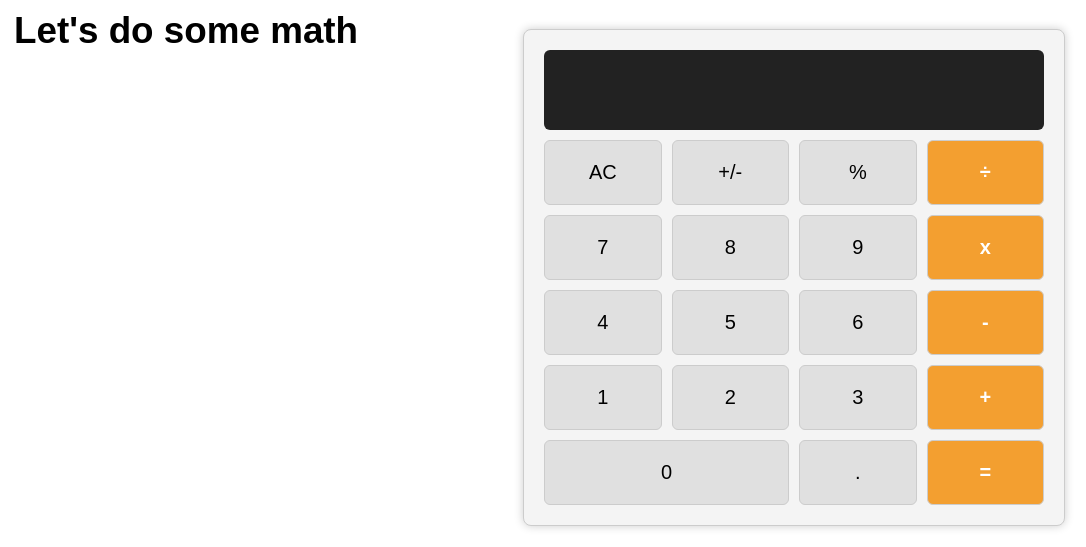
Test: Calculator component › handles decimal button click and updates display
Click the button "1" at (603, 398), box [544, 365, 662, 430]
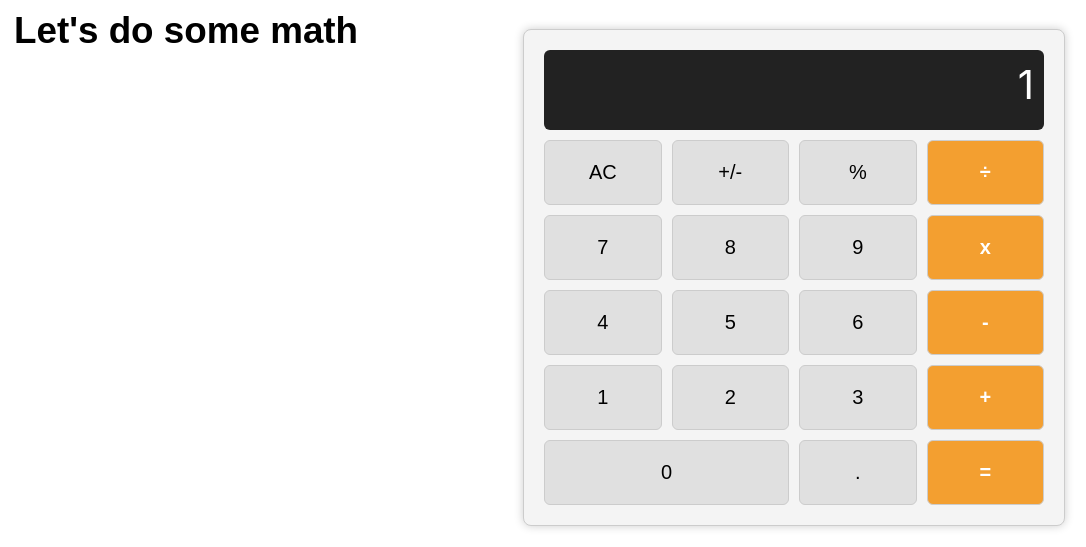
Click the button "." at (858, 472), box [799, 440, 916, 505]
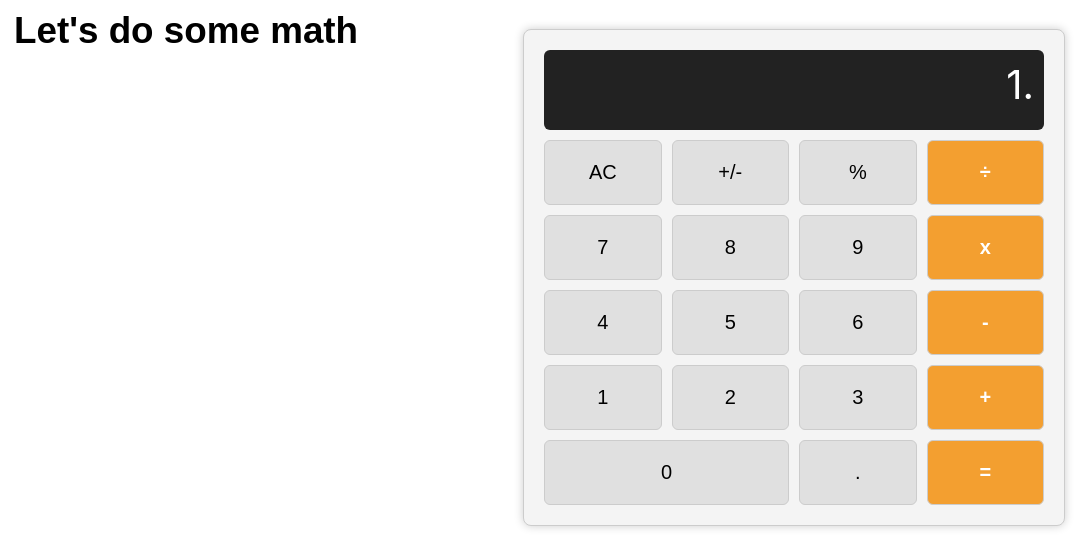
Click the button "5" at (730, 322), box [672, 290, 789, 355]
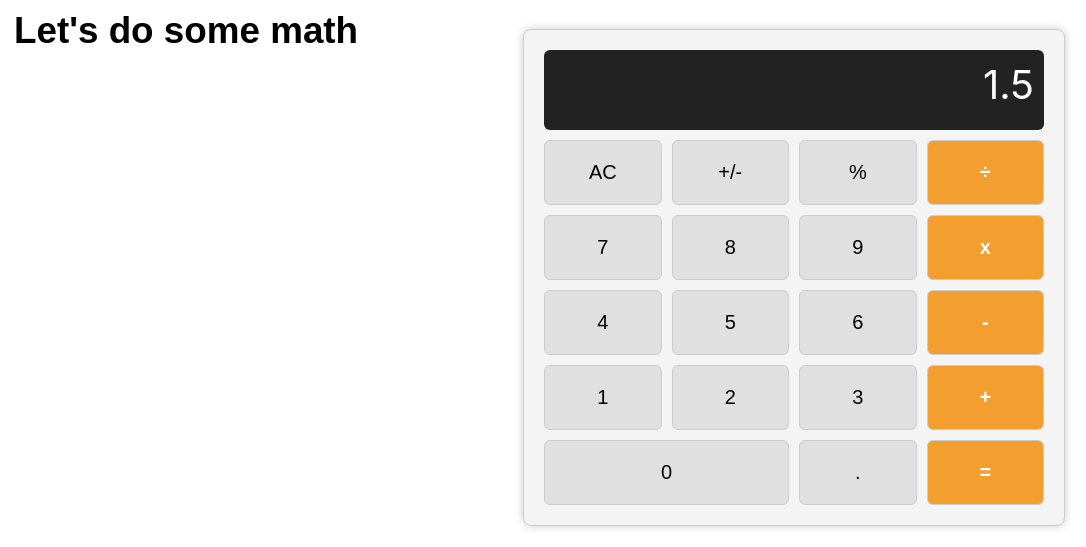
Now the text with test id "display" reads "1.5", box [983, 60, 1034, 109]
